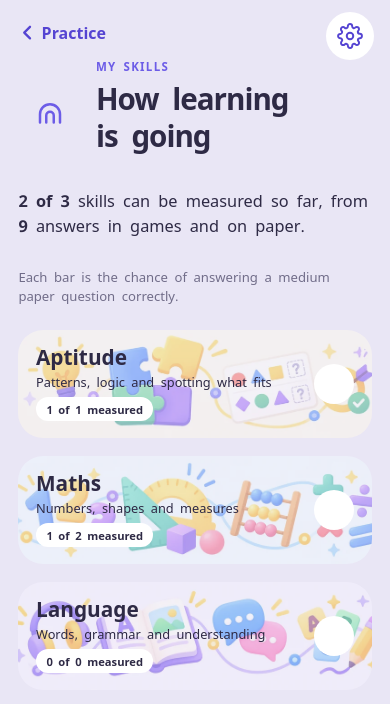
Test case: skill areas › opens one area to show its own skills, and closes it again
Click the button with class "mb-area__toggle" that starts with "Maths". click: (195, 510)
box: [18,456,372,564]
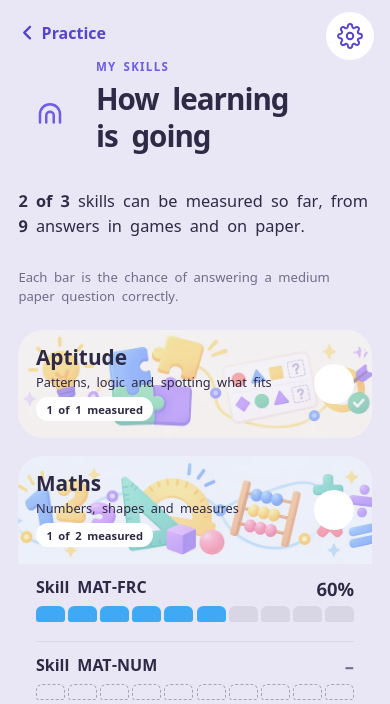
Click the button with class "mb-area__toggle" that starts with "Maths". click: (195, 510)
box: [18,456,372,564]
(page scrolled)
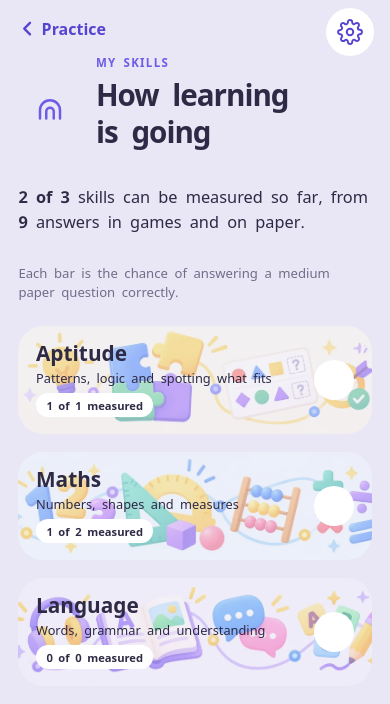
expect the button with class "mb-area__toggle" is collapsed: met, box [18,452,372,560]
